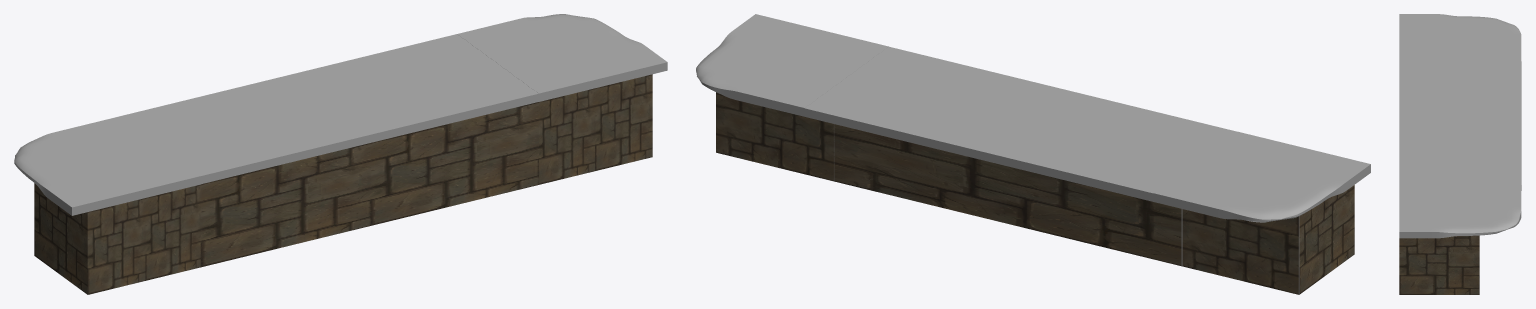
File: counter.fbx
3 views of the same model, side by side, from view 1: azimuth 30°, elevation 25°; view 2: azimuth 150°, elevation 25°; view 3: azimuth 270°, elevation 25° (orthographic). The views are drawn at different scales.
Visible parts, largest first — view 1: pCube24, pCube23, pCube25, pCube28, pCube29, pCube26; view 2: pCube24, pCube23, pCube28, pCube25, pCube29, pCube26; view 3: pCube24, pCube29, pCube28, pCube26.
Part boxes in pixels (x1,y1,x2,y2): pCube24: (120,34,538,184); pCube23: (200,102,538,267); pCube25: (34,183,202,294); pCube28: (14,116,200,215); pCube29: (457,14,667,101); pCube26: (539,74,652,184); pCube24: (804,46,1236,201); pCube23: (833,124,1182,266); pCube28: (1153,131,1370,222); pCube25: (1182,185,1354,294); pCube29: (696,14,888,116); pCube26: (716,92,834,181); pCube24: (1399,61,1521,190); pCube29: (1399,184,1521,238); pCube28: (1399,14,1521,61); pCube26: (1399,235,1479,294).
Bounding box in the file's own units: 21.03 × 3.08 × 4.99.
